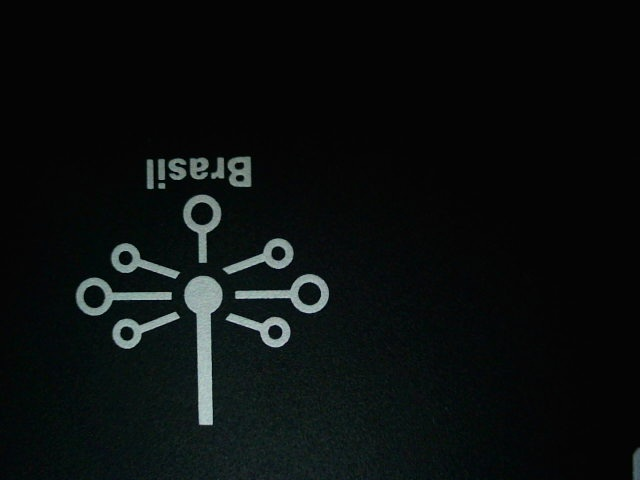BG_Brasil: (53, 140, 358, 437)
